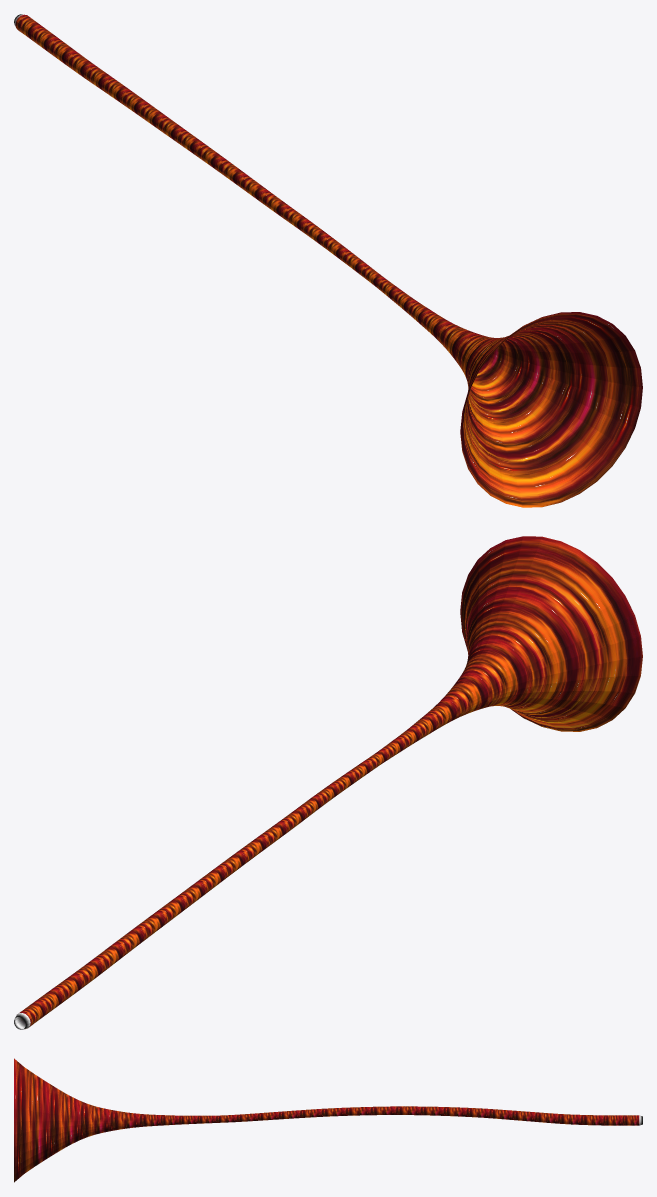
Rendered from bejeweled3_hyperspace.obj.
3 renders of one model, top to bottom at view 1: azimuth 30°, elevation 25°; view 2: azimuth 150°, elevation 25°; view 3: azimuth 270°, elevation 25°, orthographic. The views are drawn at different scales.
Parts seen in each view (by area): view 1: mesh_1_1.nr; view 2: mesh_1_1.nr; view 3: mesh_1_1.nr.
Part boxes in pixels (left/top/right/bottom): mesh_1_1.nr: left=15, top=14, right=642, bottom=507; mesh_1_1.nr: left=19, top=536, right=642, bottom=1027; mesh_1_1.nr: left=14, top=1058, right=639, bottom=1182.
Bounding box in the file's own units: 83.91 × 83.47 × 423.
Materials: 2 (2 with a texture image).
